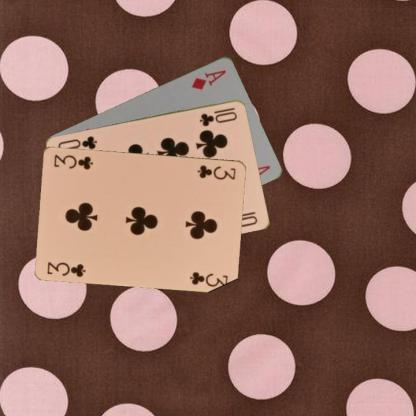10c: (197, 104, 239, 128)
3c: (195, 162, 238, 181), (44, 259, 87, 278)
Ad: (189, 66, 228, 91)
